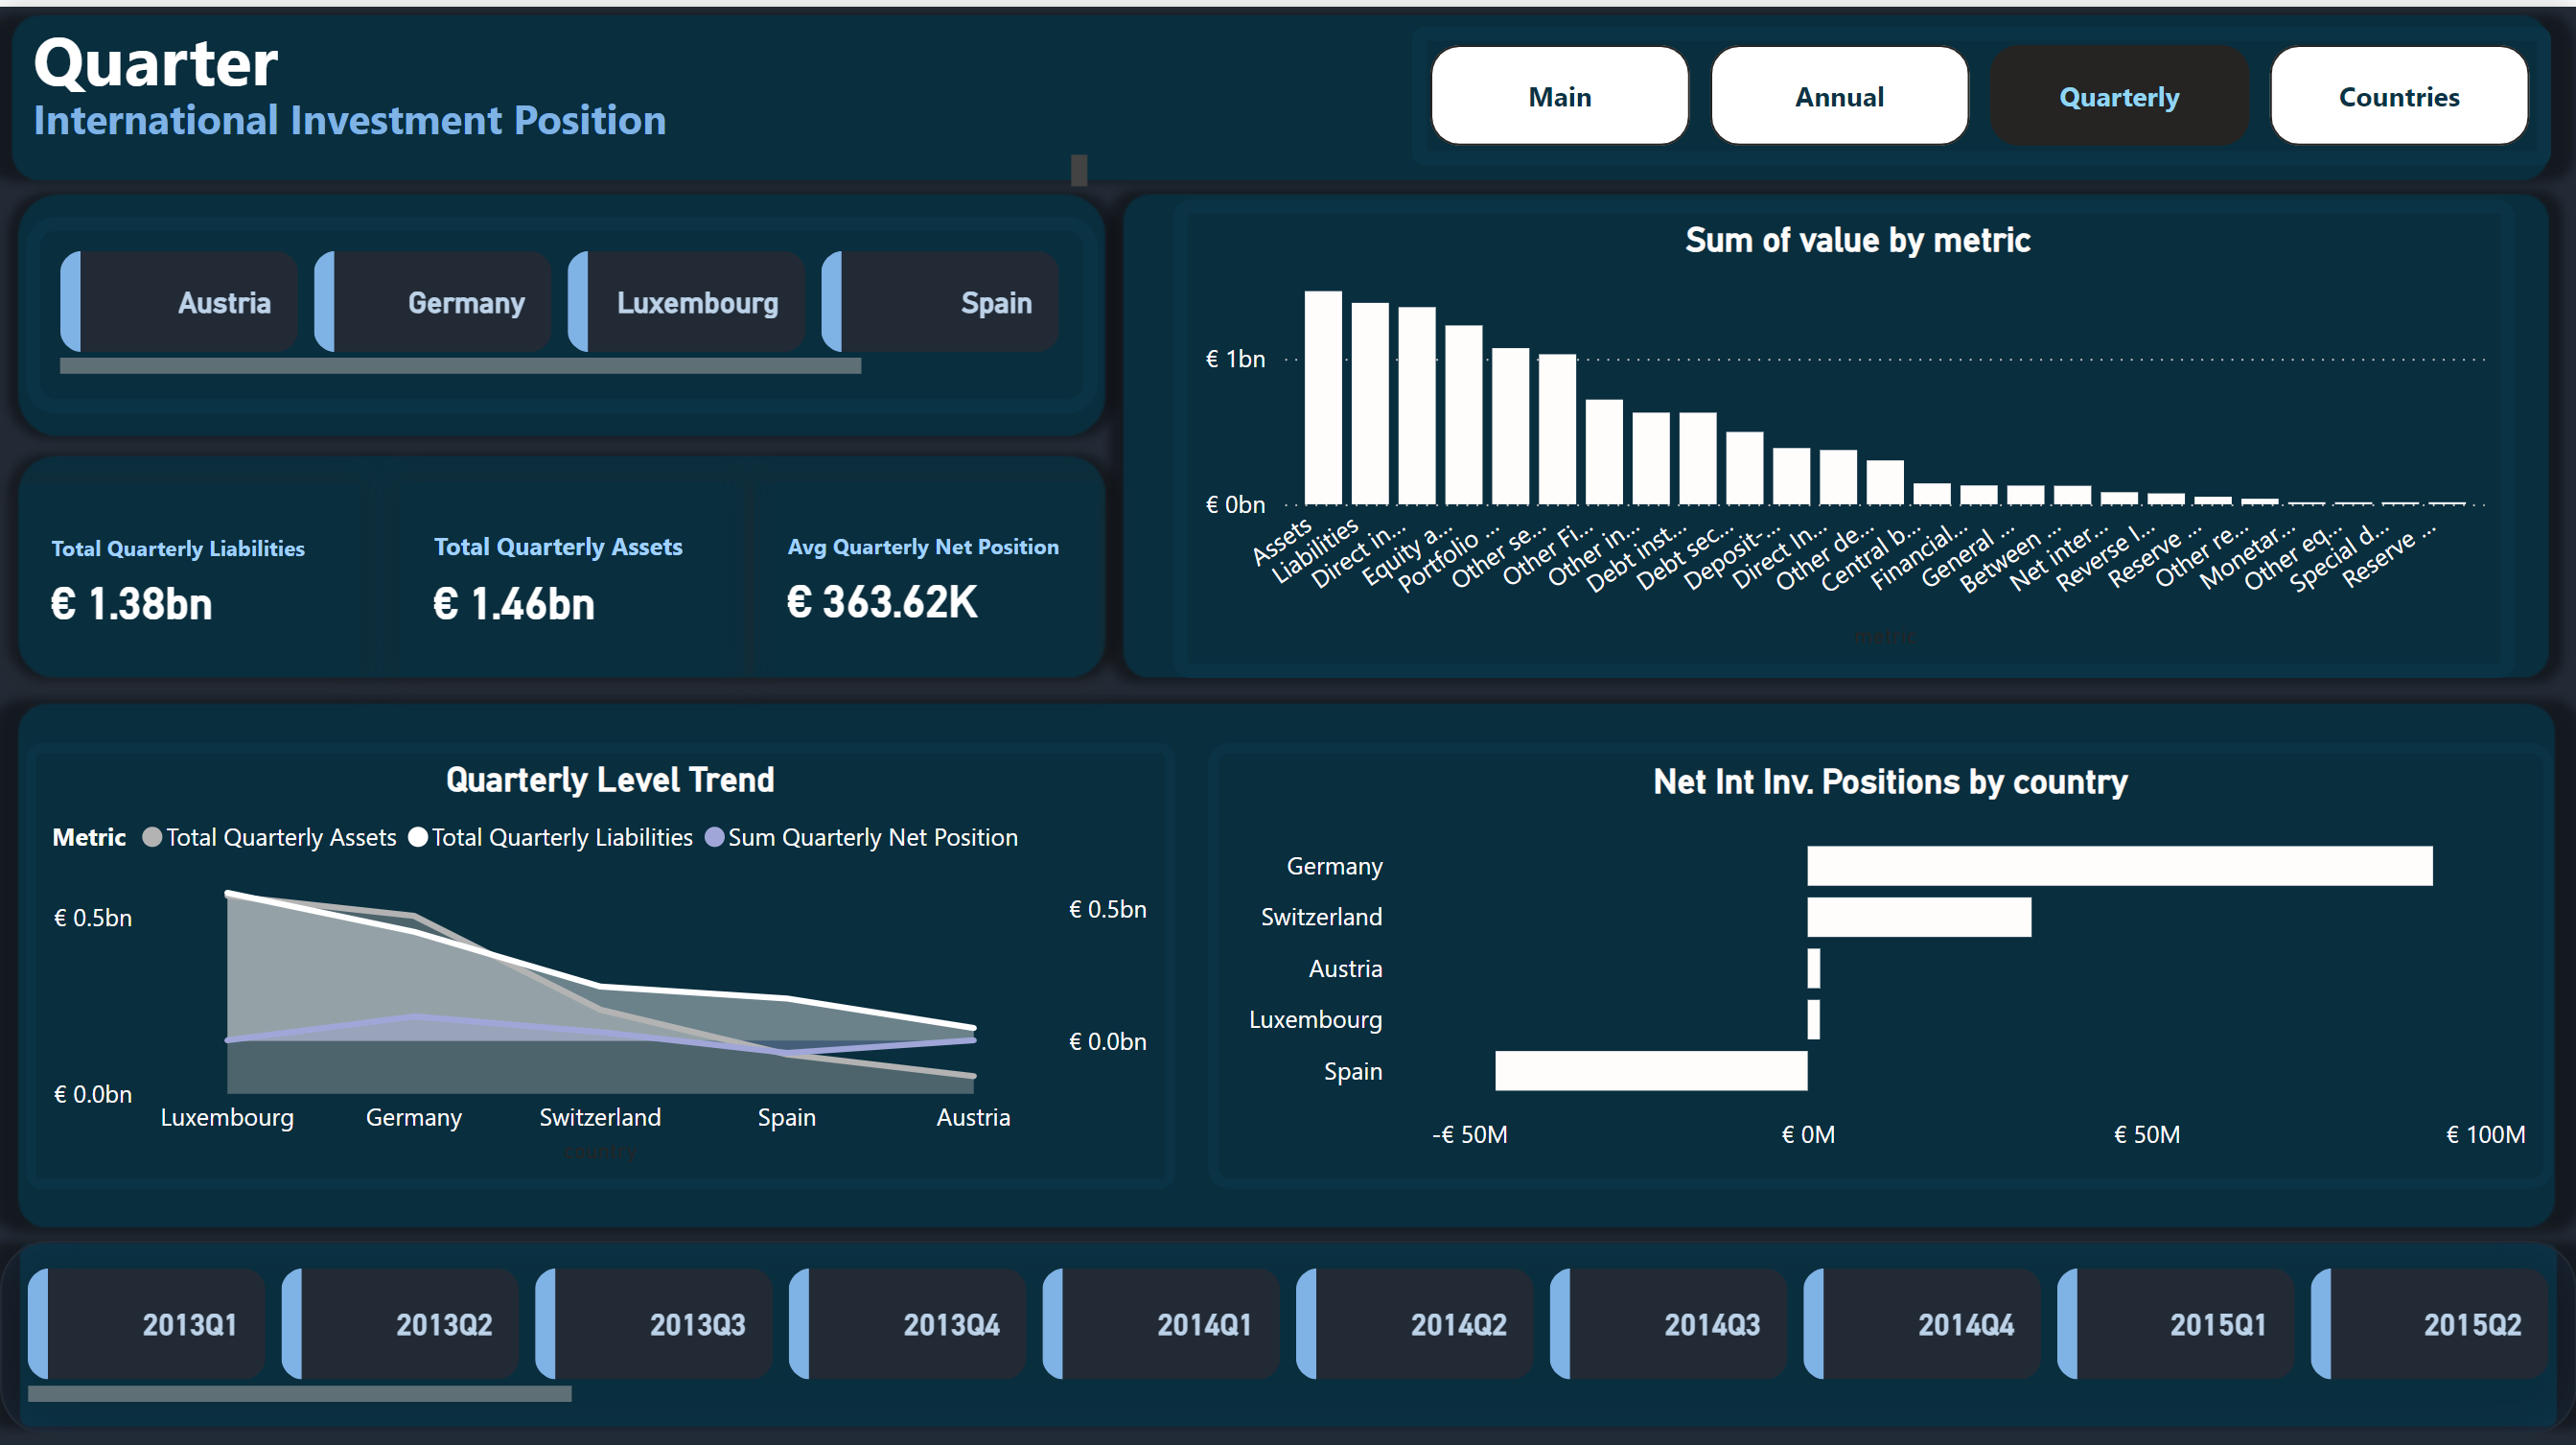

What the dashboard file says about the page in this screenshot:
{"tool":"powerbi","page":{"name":"Quarterly","canvas":[1280,720],"ordinal":2},"visuals":[{"type":"cardVisual","fields":{"Data":["quarterly_data.Total Quarterly Liabilities"]},"box":[8.9,237,169.9,95.4],"z":0},{"type":"cardVisual","fields":{"Data":["quarterly_data.Total Quarterly Assets"]},"box":[198.3,235.5,171.4,96.9],"z":1000},{"type":"cardVisual","fields":{"Data":["quarterly_data.Avg Quarterly Net Position"]},"box":[374.2,235.5,171.4,96.9],"z":2000},{"type":"lineChart","title":"Quarterly Level Trend","fields":{"Y":["quarterly_data.Total Quarterly Assets"],"Y2":["quarterly_data.Total Quarterly Liabilities","quarterly_data.Sum Quarterly Net Position"],"Category":["countries.country"]},"box":[12.2,365.7,570.9,221.5],"z":3000},{"type":"clusteredColumnChart","fields":{"Category":["quarterly_data.metric"],"Y":["quarterly_data.Sum of value"]},"box":[583.1,95.5,666.4,237.7],"z":4000},{"type":"clusteredBarChart","title":"Net Int Inv. Positions by country","fields":{"Category":["countries.country"],"Y":["quarterly_data.Sum Quarterly Net Position"]},"box":[599.4,365.7,668.4,221.5],"z":5000},{"type":"advancedSlicerVisual","fields":{"Values":["countries.country"]},"box":[12.2,103.6,532.3,97.5],"z":6000},{"type":"advancedSlicerVisual","fields":{"Values":["quarterly_data.quarter"]},"box":[0,613,1280.2,96.8],"z":7000},{"type":"textbox","title":"Quarter","box":[11.9,3,533.7,92.4],"z":8000},{"type":"pageNavigator","box":[701.4,10,565.7,68.6],"z":9000}]}

Visuals, with their boxes in screenshot pixels (x1, y1, x2, y2), scaled from the page's 1280x720 canvas onto the 2576x1445 screenshot:
cardVisual - quarterly_data.Total Quarterly Liabilities: BBox(18, 476, 360, 667)
cardVisual - quarterly_data.Total Quarterly Assets: BBox(399, 473, 744, 667)
cardVisual - quarterly_data.Avg Quarterly Net Position: BBox(754, 473, 1098, 667)
"Quarterly Level Trend" lineChart: BBox(25, 734, 1173, 1178)
clusteredColumnChart - quarterly_data.metric x quarterly_data.Sum of value: BBox(1173, 192, 2515, 668)
"Net Int Inv. Positions by country" clusteredBarChart: BBox(1206, 734, 2551, 1178)
advancedSlicerVisual - countries.country: BBox(25, 208, 1096, 404)
advancedSlicerVisual - quarterly_data.quarter: BBox(0, 1230, 2575, 1425)
"Quarter" textbox: BBox(24, 6, 1098, 192)
pageNavigator: BBox(1411, 20, 2550, 158)
